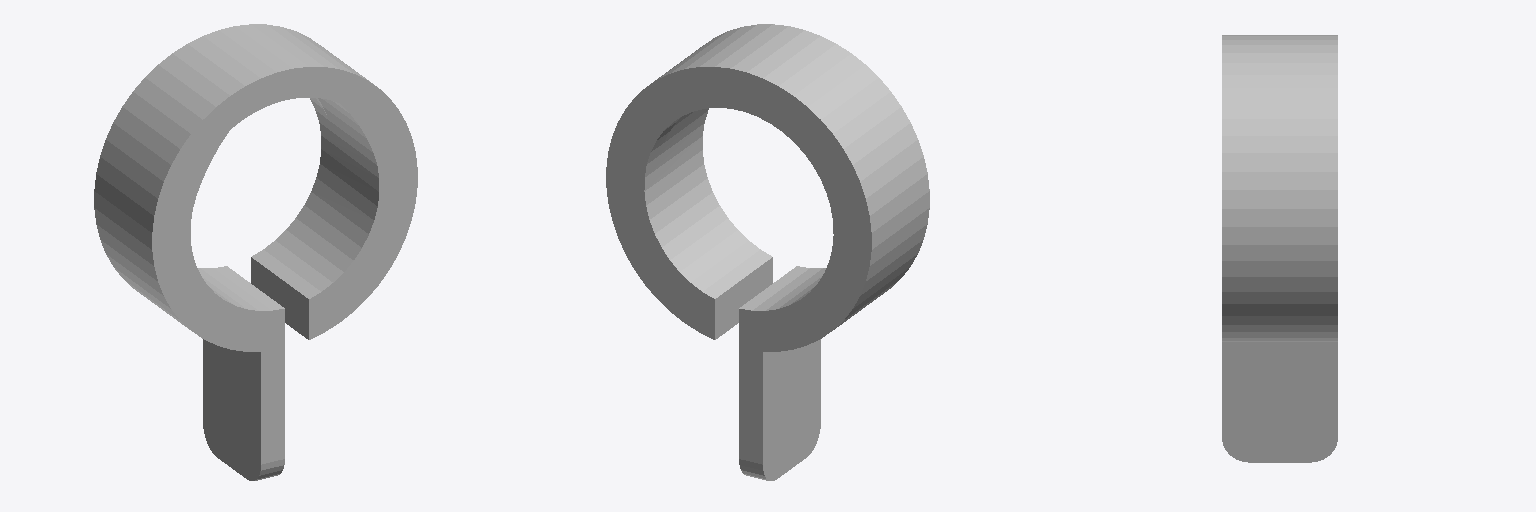
The model's file is Cube 1x1 V5_Laser Switch.obj.
The picture shows the model from 3 angles: view 1: azimuth 30°, elevation 25°; view 2: azimuth 150°, elevation 25°; view 3: azimuth 270°, elevation 25°; orthographic projection.
Parts seen in each view (by area): view 1: Solid1:12; view 2: Solid1:12; view 3: Solid1:12.
Boxes of the visible parts, x1,y1,x2,y2 form: Solid1:12: [94, 24, 417, 480]; Solid1:12: [606, 24, 929, 480]; Solid1:12: [1222, 35, 1337, 462].
Size of the model in its own units: 27.7 by 41.22 by 10.5.